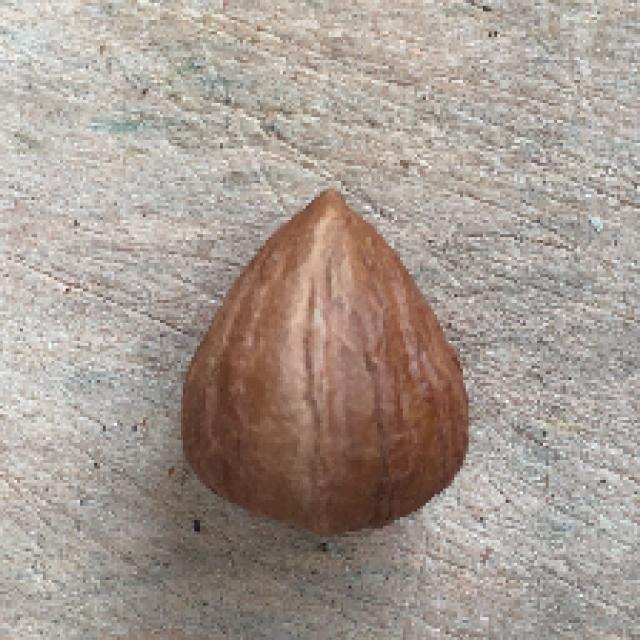hazelnut: (170, 183, 485, 538)
